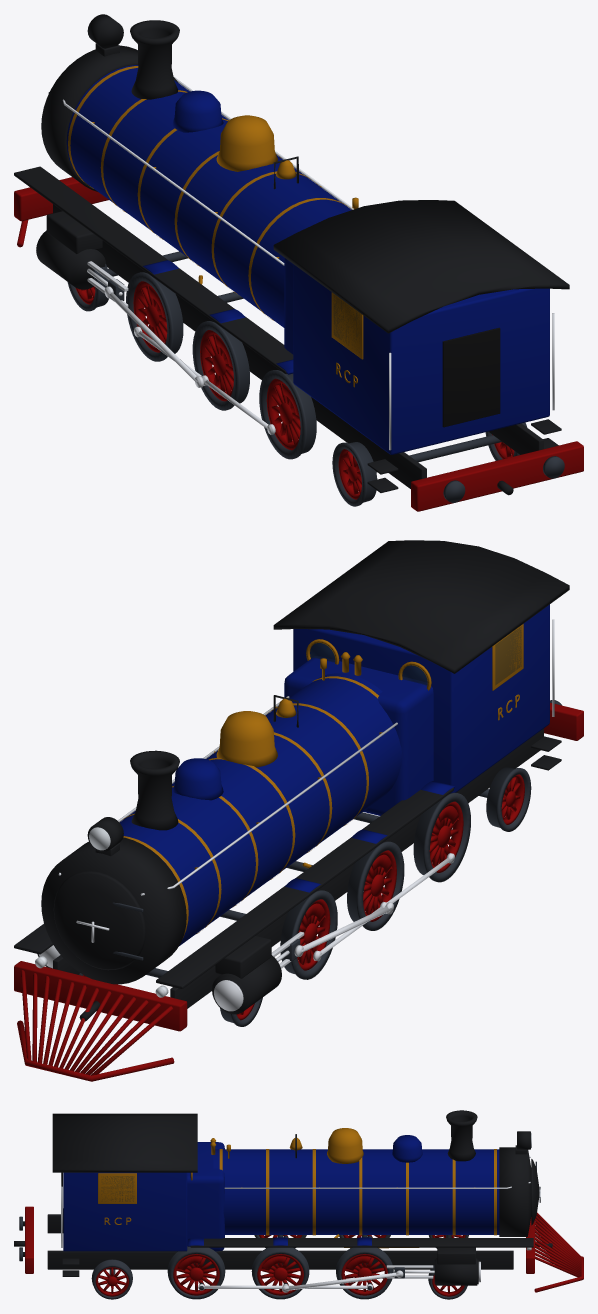
The model's file is Train.fbx.
The picture shows the model from 3 angles, top to bottom: view 1: azimuth 30°, elevation 25°; view 2: azimuth 150°, elevation 25°; view 3: azimuth 270°, elevation 25°; orthographic projection. The views are drawn at different scales.
Parts seen in each view (by area): view 1: Train_Body, Train_Trim, Train_Trim2; view 2: Train_Body, Train_Trim, Train_Trim2, Train_Glass; view 3: Train_Body, Train_Trim, Train_Trim2.
Part boxes in pixels (x1,y1,x2,y2): Train_Body: (14,45,583,511); Train_Trim: (67,14,564,506); Train_Trim2: (48,43,561,495); Train_Body: (14,540,583,1081); Train_Trim: (39,639,561,1026); Train_Trim2: (58,619,561,1021); Train_Glass: (310,626,521,685); Train_Body: (25,1113,583,1292); Train_Trim: (19,1110,539,1299); Train_Trim2: (14,1134,552,1292).
Size of the model in its own units: 12 by 13.58 by 44.04.
